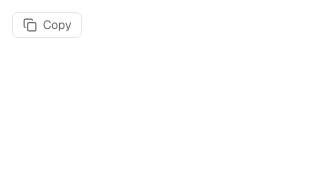
Scenario: <CopyButton /> › reports when copying fails
Click the button "Copy": point(47, 25) [12,12,82,38]
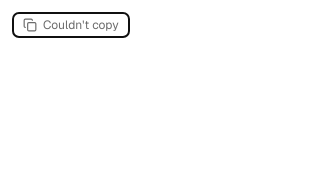
Expected: the button "Couldn't copy" is shown, [12,12,130,38]
